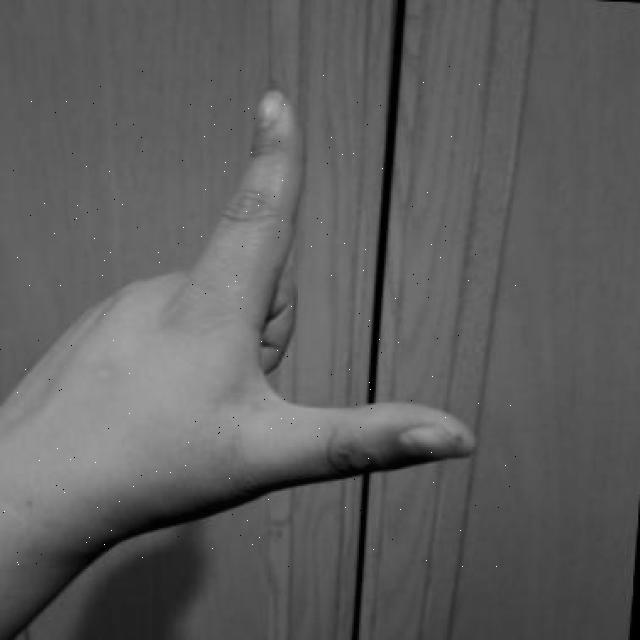L: (0, 66, 516, 570)
